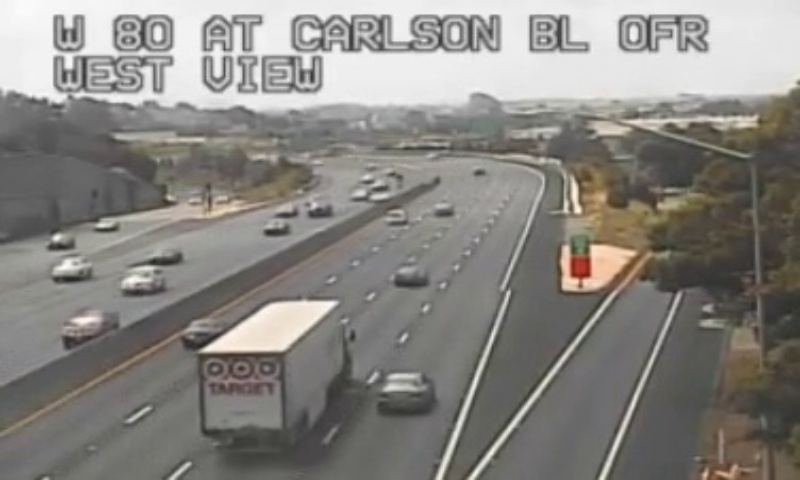car: (374, 371, 431, 413), (180, 319, 229, 346), (395, 265, 425, 285)
truck: (197, 299, 351, 454)
